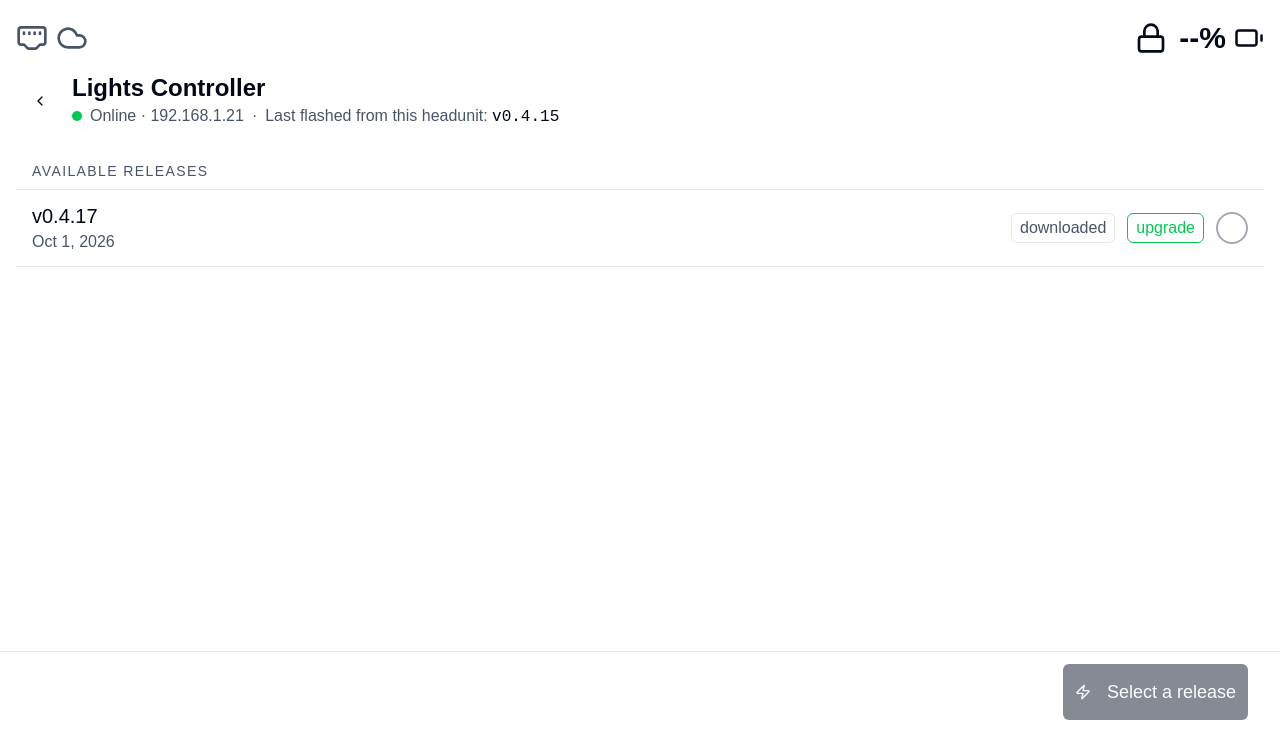
Test: shows why main refused to flash
Click the radio button labelled "v0.4.17 Oct 1, 2026 downloaded upgrade": (65, 216) left=16, top=190, right=1264, bottom=266
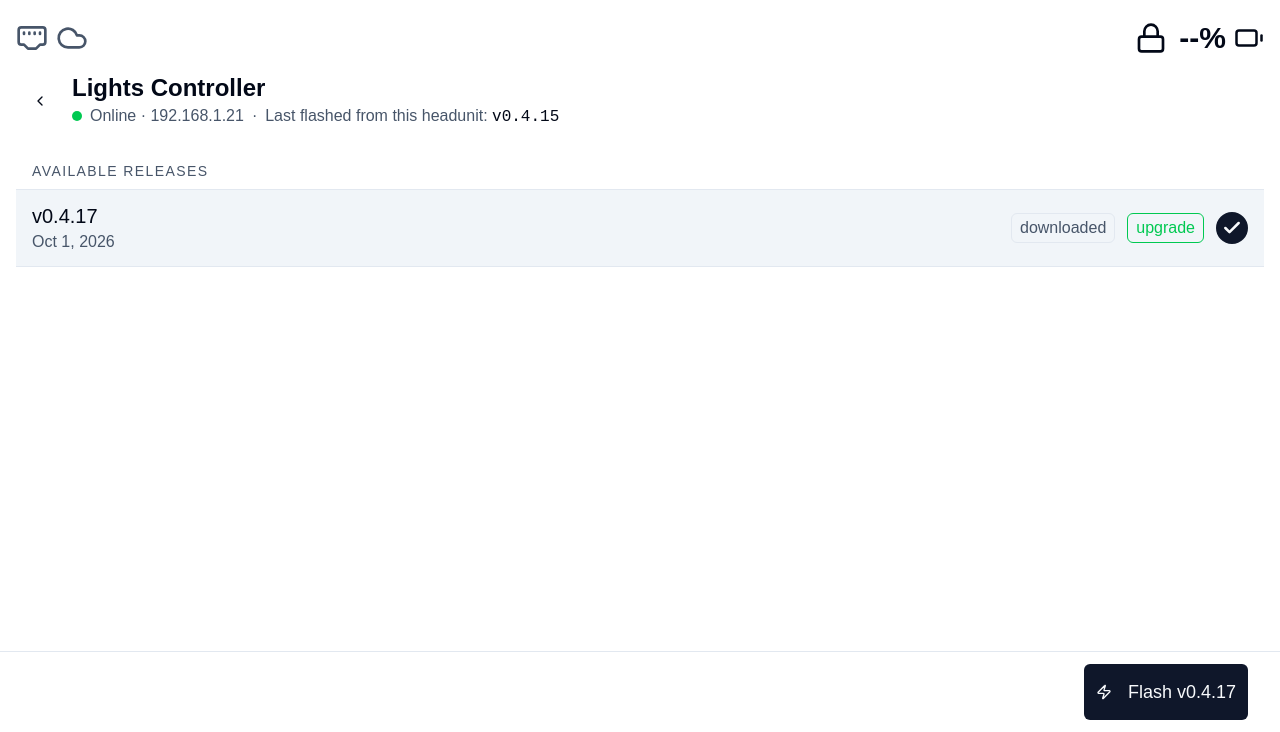
Click the button "Flash v0.4.17": (1166, 692) left=1084, top=664, right=1248, bottom=720
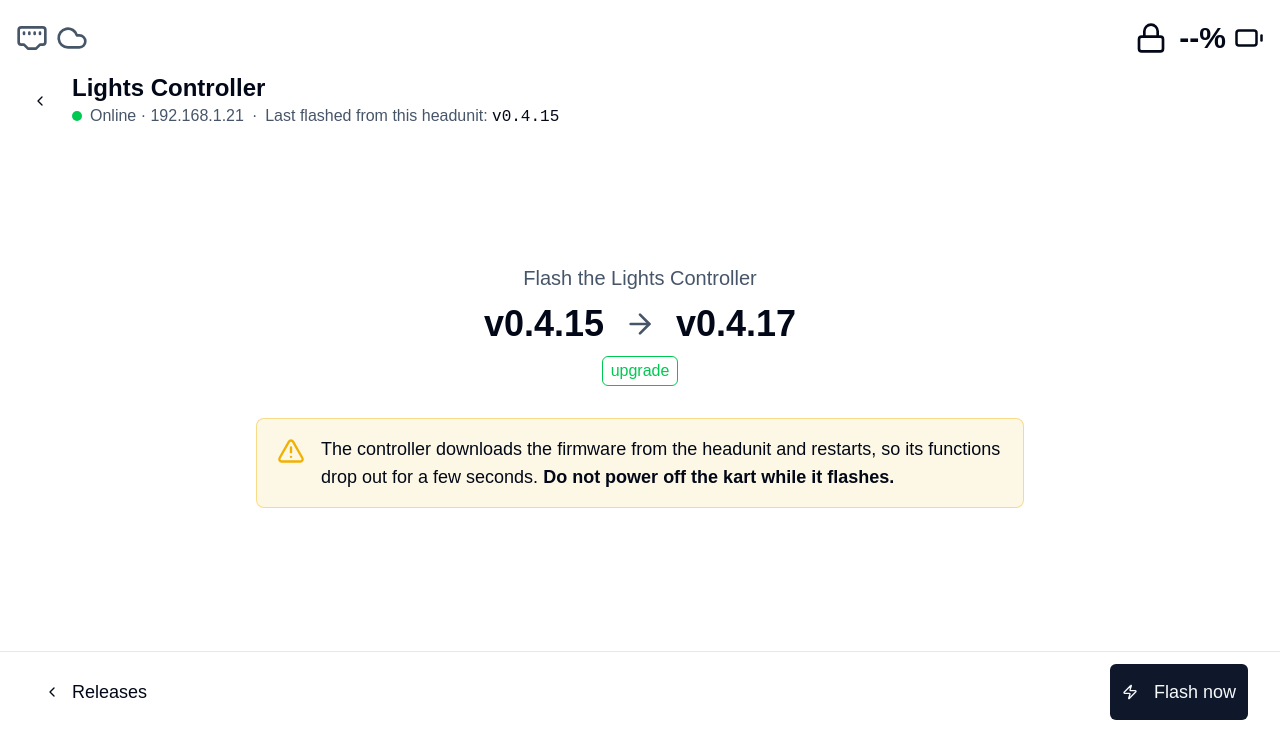
Click the button "Flash now": (1179, 692) left=1110, top=664, right=1248, bottom=720
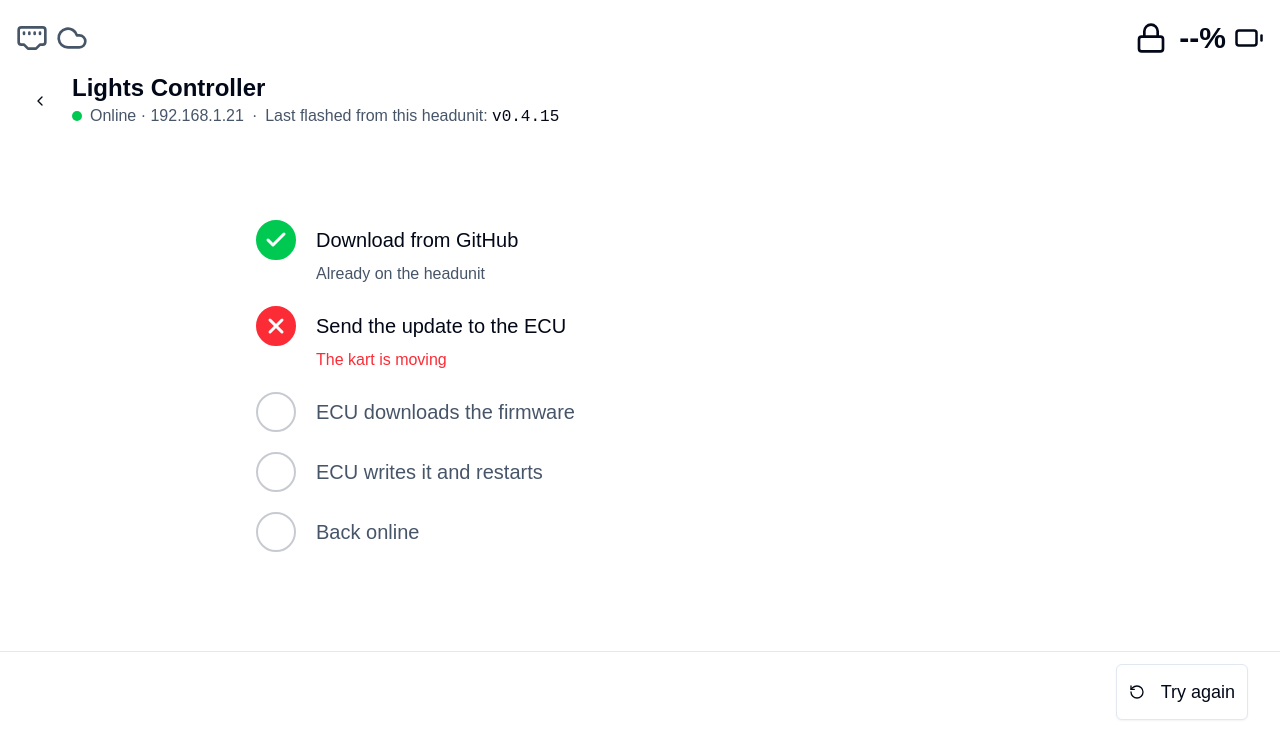
Expected: the text "The kart is moving" is shown, left=316, top=351, right=447, bottom=368
Expected: the button "Try again" is shown, left=1116, top=664, right=1248, bottom=720
